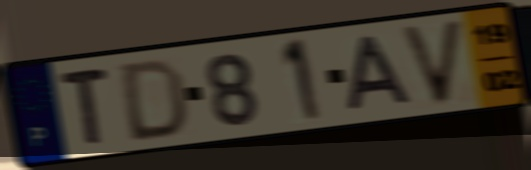1: (279, 35, 323, 126)
8: (204, 51, 262, 128)
A: (346, 32, 417, 115)
D: (119, 56, 189, 144)
T: (56, 64, 112, 147)
V: (397, 16, 467, 110)
